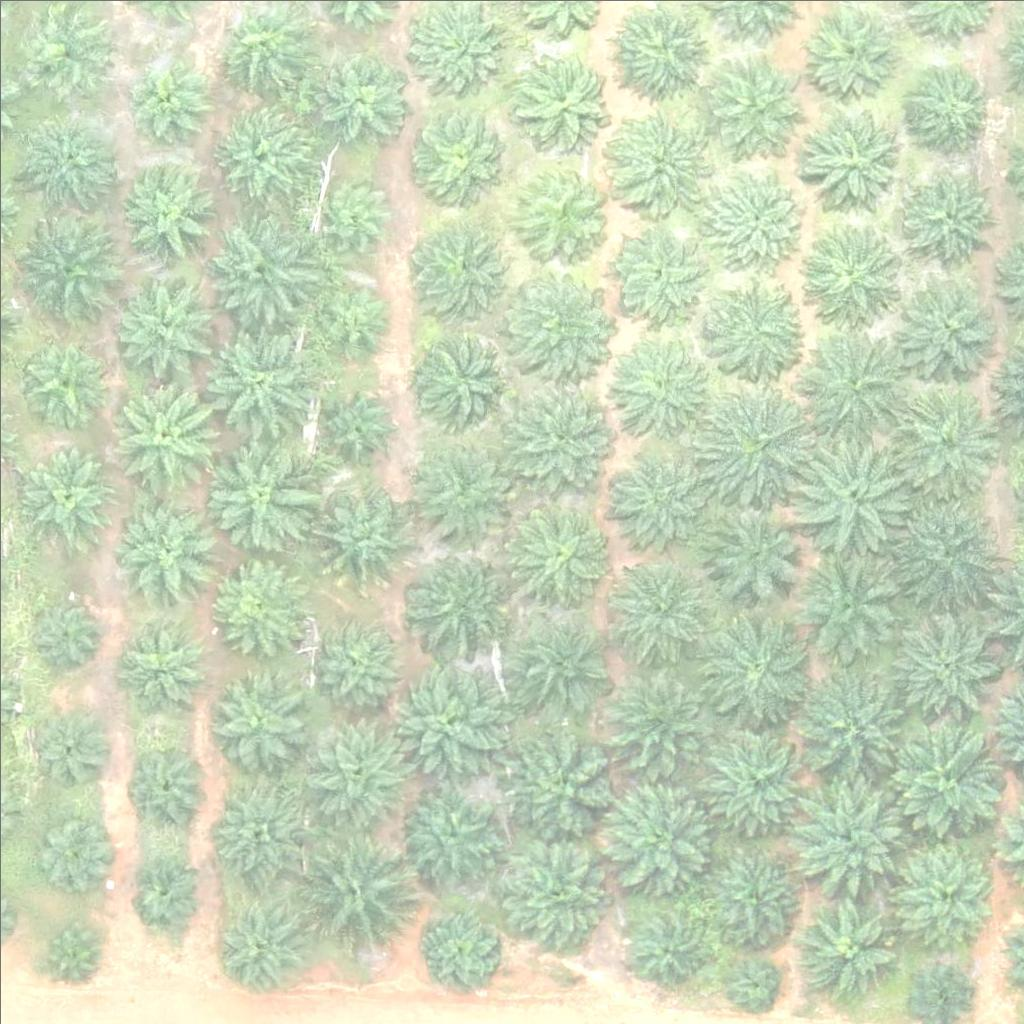Kelapa_Sawit: (878, 715, 1003, 841), (882, 486, 1007, 612), (795, 666, 920, 792), (785, 435, 910, 561), (690, 604, 815, 730), (695, 379, 820, 505), (490, 831, 615, 957), (502, 720, 627, 846), (497, 373, 622, 499), (382, 656, 507, 782), (291, 830, 416, 956), (295, 707, 420, 833), (193, 431, 318, 557), (193, 318, 318, 444), (101, 371, 226, 497), (789, 321, 914, 447), (694, 713, 819, 838), (793, 779, 906, 892), (792, 547, 905, 660), (697, 491, 810, 604), (598, 437, 711, 550), (203, 214, 316, 327), (506, 262, 619, 375), (610, 329, 723, 442), (886, 383, 998, 497), (13, 210, 125, 324), (892, 610, 1004, 723), (605, 776, 717, 889), (604, 664, 716, 777), (895, 845, 995, 946), (795, 897, 895, 998), (706, 843, 806, 944), (507, 609, 607, 710), (506, 508, 606, 609), (399, 553, 499, 654), (411, 448, 511, 549), (308, 485, 408, 586), (117, 163, 217, 264), (211, 105, 311, 206), (310, 46, 410, 147), (415, 331, 515, 432), (413, 219, 513, 320), (405, 107, 505, 208), (410, 2, 510, 103), (510, 162, 610, 263), (608, 221, 708, 322), (610, 110, 710, 211), (707, 277, 807, 378), (401, 785, 501, 885), (211, 893, 311, 993), (207, 777, 307, 877), (207, 670, 307, 770), (205, 553, 305, 653), (114, 497, 214, 597), (20, 446, 120, 546), (112, 278, 212, 378), (705, 169, 805, 269), (706, 58, 806, 158), (802, 220, 902, 320), (802, 110, 902, 210), (902, 276, 1002, 376), (895, 163, 995, 263), (512, 48, 611, 149), (616, 566, 704, 654), (117, 619, 205, 707), (19, 334, 107, 422), (25, 117, 113, 205), (123, 740, 210, 828), (312, 615, 399, 703), (911, 63, 998, 151), (31, 713, 106, 789), (26, 594, 101, 670), (419, 912, 494, 988), (131, 852, 206, 928), (33, 811, 108, 886), (314, 178, 389, 253), (315, 282, 390, 357), (628, 910, 703, 985), (322, 385, 397, 460), (133, 59, 208, 134), (910, 960, 973, 1023), (41, 917, 103, 980), (728, 956, 778, 1006)
